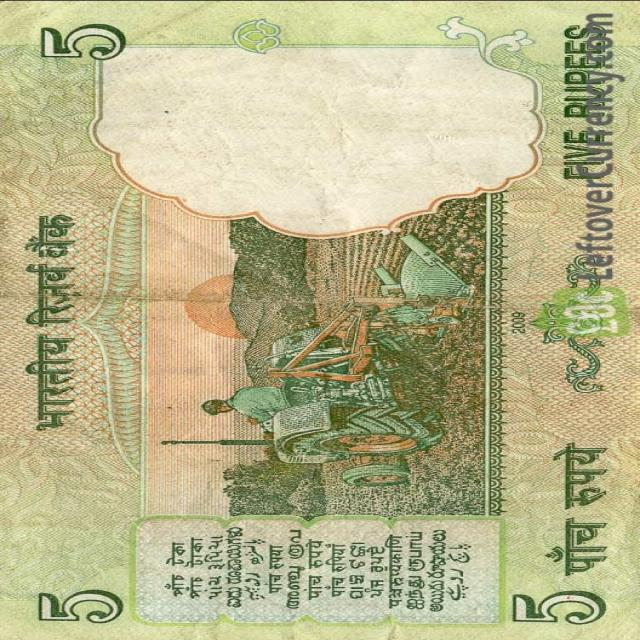5IndianRupees: (8, 4, 637, 637)
